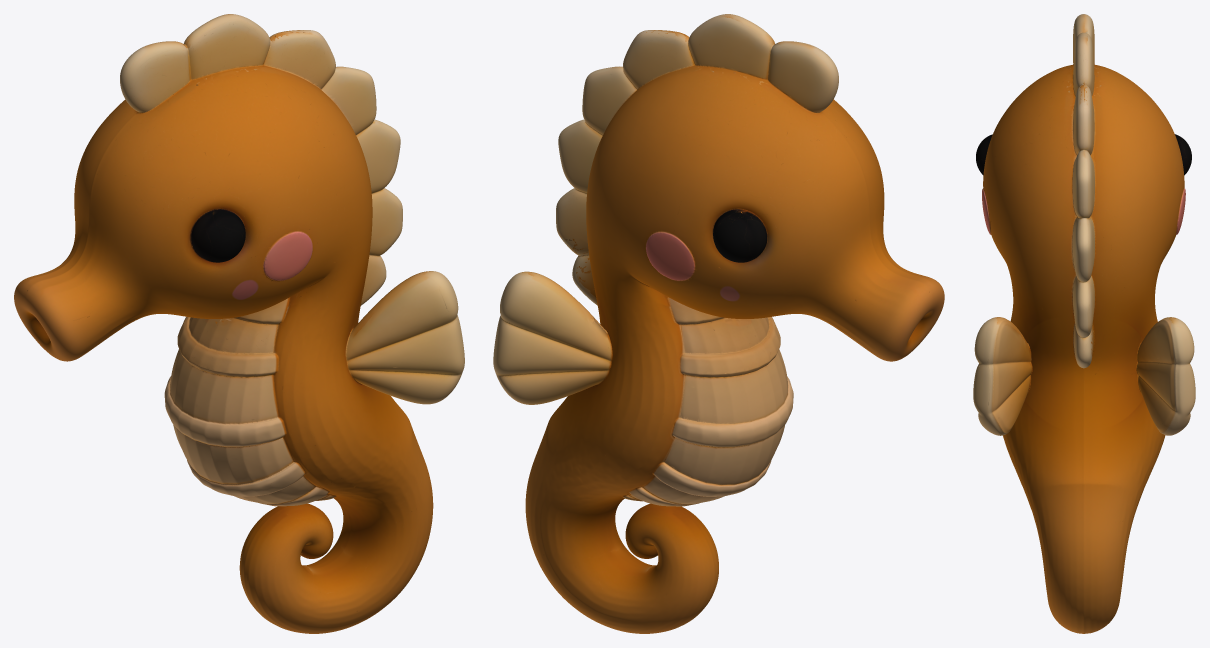
Rendered from tiny_planet_friends_3d-walrus-4189.glb.
3 renders of one model, left to right at view 1: azimuth 30°, elevation 25°; view 2: azimuth 150°, elevation 25°; view 3: azimuth 270°, elevation 25°, orthographic. The views are drawn at different scales.
Visible parts, largest first — view 1: texture_pbr_v128; view 2: texture_pbr_v128; view 3: texture_pbr_v128.
Boxes of the visible parts, x1,y1,x2,y2 form: texture_pbr_v128: [14, 14, 464, 633]; texture_pbr_v128: [493, 14, 944, 633]; texture_pbr_v128: [973, 14, 1195, 633].
Bounding box in the file's own units: 0.7305 × 1.11 × 0.4117.
1 material, 1 textured.
